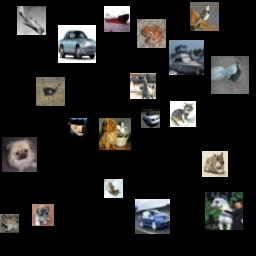airplane: (17, 6, 46, 35)
automobile: (58, 25, 96, 63), (135, 199, 170, 234), (141, 109, 160, 128), (68, 118, 87, 137)
bird: (211, 56, 249, 94), (36, 77, 65, 106), (190, 2, 219, 31)
cat: (202, 151, 228, 177), (170, 101, 196, 127)
dog: (2, 137, 37, 172), (99, 118, 131, 150), (32, 204, 54, 226)
frog: (137, 19, 166, 48), (0, 214, 19, 233), (104, 179, 123, 198)
ship: (169, 40, 204, 75), (104, 6, 130, 32)
